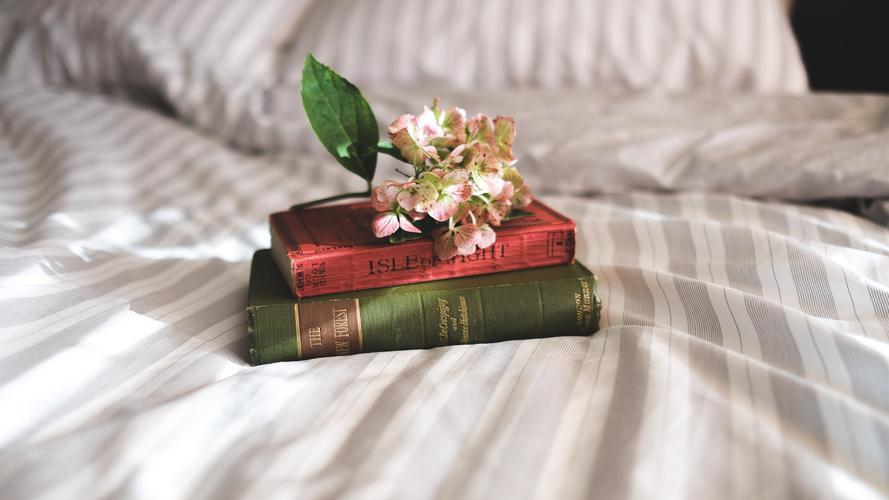book: (230, 237, 632, 375), (247, 168, 615, 303)
